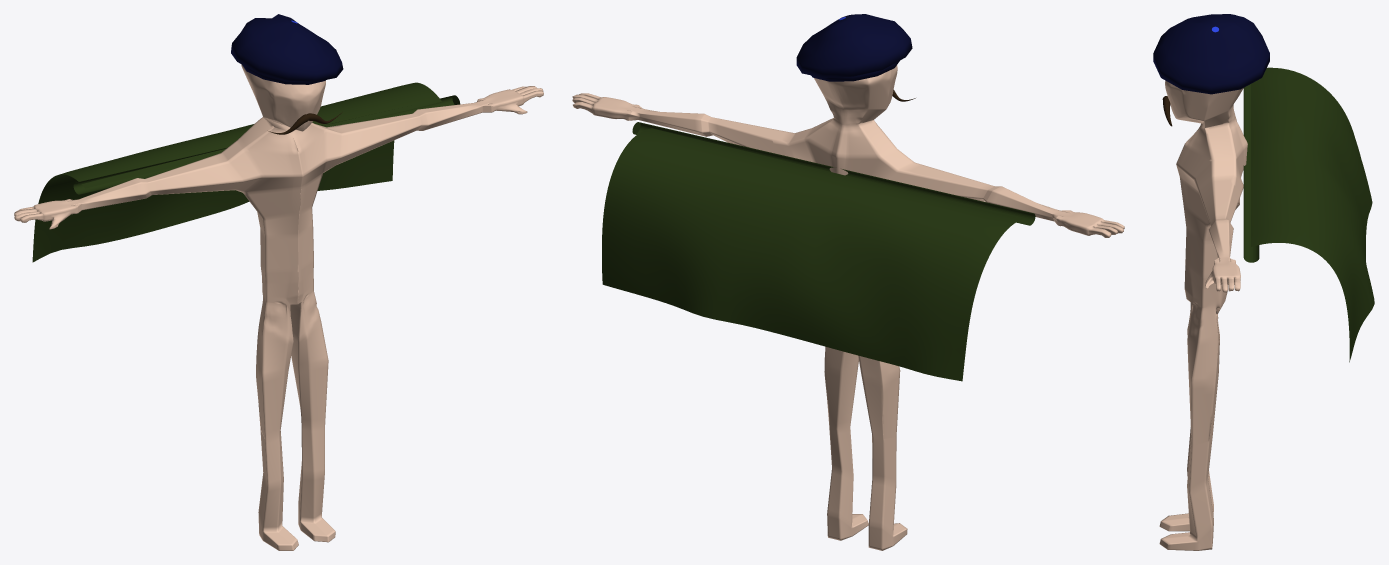
Rendered from françois voadar.glb.
3 views of the same model, side by side, from view 1: azimuth 30°, elevation 25°; view 2: azimuth 150°, elevation 25°; view 3: azimuth 270°, elevation 25° (orthographic). The views are drawn at different scales.
Visible parts, largest first — view 1: Cube.009, Plane.001; view 2: Plane.001, Cube.009; view 3: Cube.009, Plane.001.
Part boxes in pixels (x1,y1,x2,y2): Cube.009: [14, 14, 543, 550]; Plane.001: [32, 82, 460, 262]; Plane.001: [602, 122, 1035, 381]; Cube.009: [572, 14, 1124, 550]; Cube.009: [1153, 14, 1269, 550]; Plane.001: [1243, 67, 1374, 362].
Bounding box in the file's own units: 27.17 × 24.91 × 9.7.
